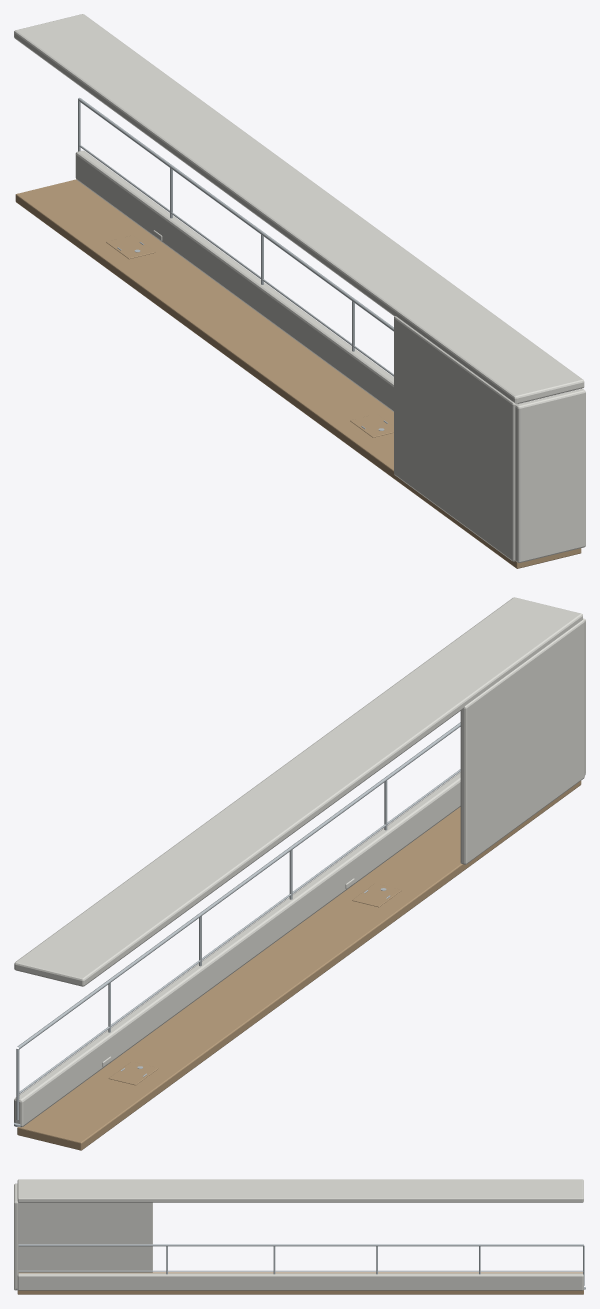
File: context.glb
3 views of the same model, one above another, from view 1: azimuth 30°, elevation 25°; view 2: azimuth 150°, elevation 25°; view 3: azimuth 270°, elevation 25° (orthographic). The views are drawn at different scales.
Parts seen in each view (by area): view 1: port-side | port-side, port-side | none; view 2: port-side | port-side, port-side | none; view 3: port-side | port-side, port-side | none.
Part boxes in pixels (x1,y1,x2,y2): port-side | port-side: (14, 14, 585, 568); port-side | none: (78, 97, 393, 430); port-side | port-side: (14, 597, 585, 1150); port-side | none: (14, 722, 460, 1126); port-side | port-side: (14, 1179, 583, 1294); port-side | none: (16, 1244, 585, 1289).
Bounding box in the file's own units: 0.9927 × 2.25 × 11.99.
